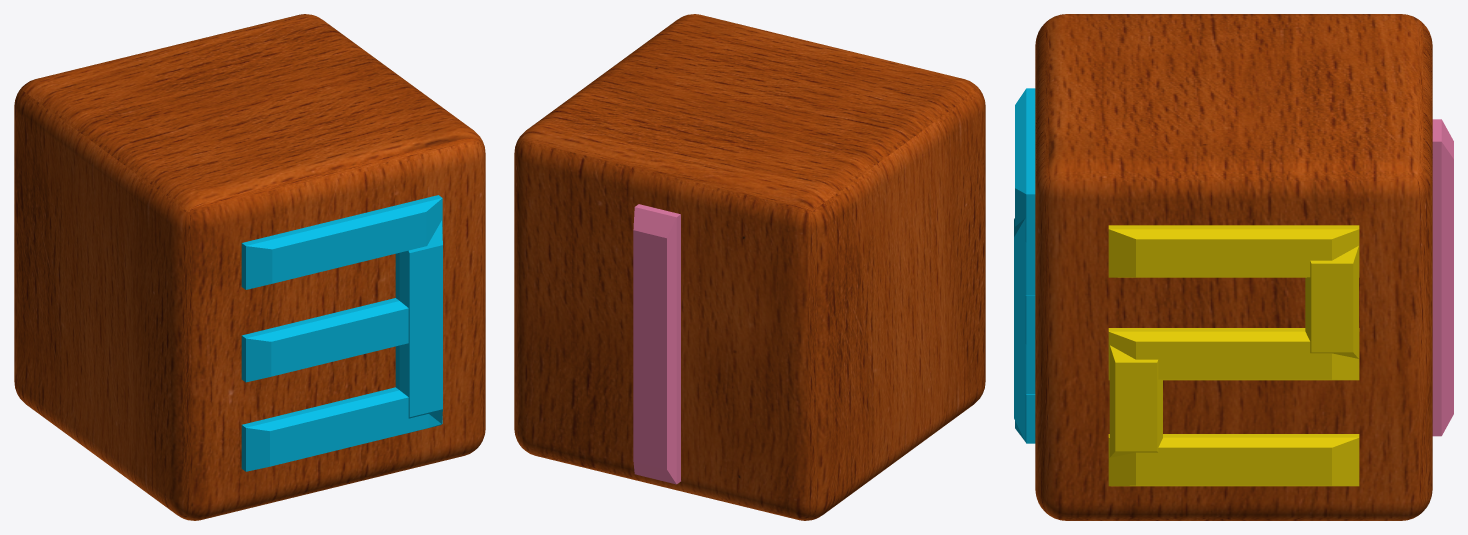
File: CountDownCube.fbx
3 renders of one model, left to right at view 1: azimuth 30°, elevation 25°; view 2: azimuth 150°, elevation 25°; view 3: azimuth 270°, elevation 25°, orthographic. The views are drawn at different scales.
Parts seen in each view (by area): view 1: Cube; view 2: Cube; view 3: Cube.
Part boxes in pixels (box(x1,y1,x2,y2)): Cube: box(14, 14, 485, 520); Cube: box(514, 14, 985, 520); Cube: box(1014, 14, 1453, 520).
Size of the model in its own units: 211 by 200 by 221.
